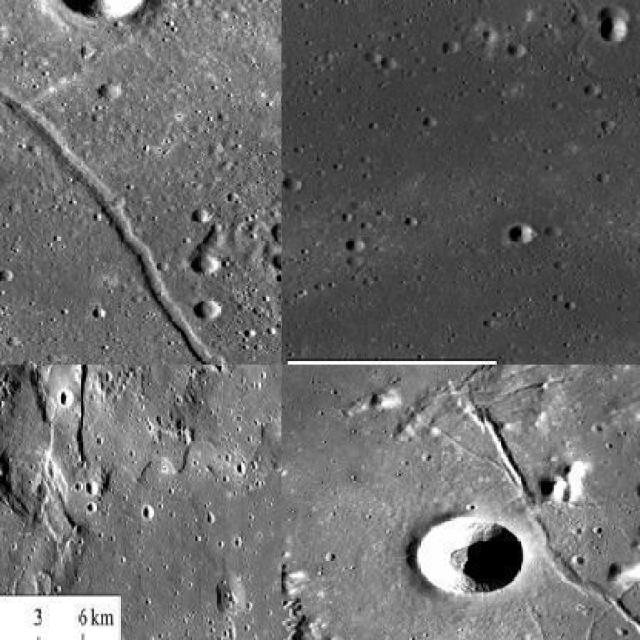rille: (281, 364, 617, 638), (0, 29, 275, 363), (463, 406, 639, 639), (65, 364, 280, 534), (450, 0, 638, 120)
